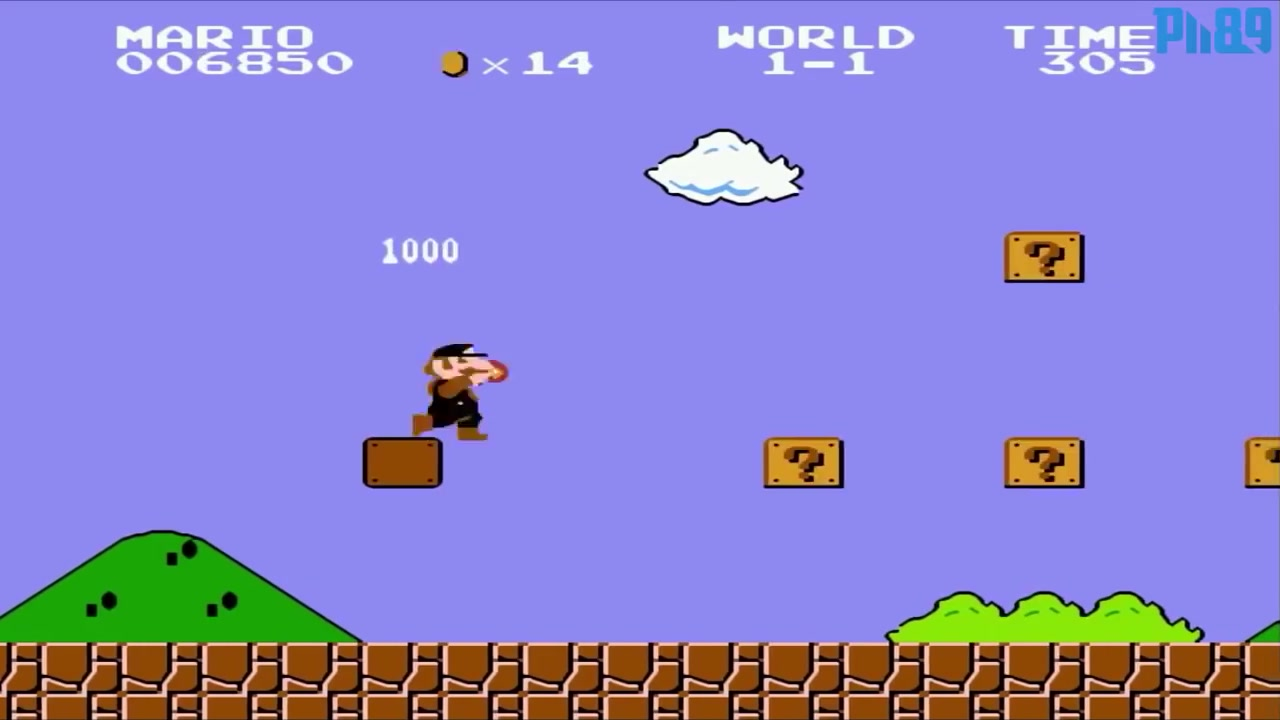mario: (402, 332, 514, 446)
